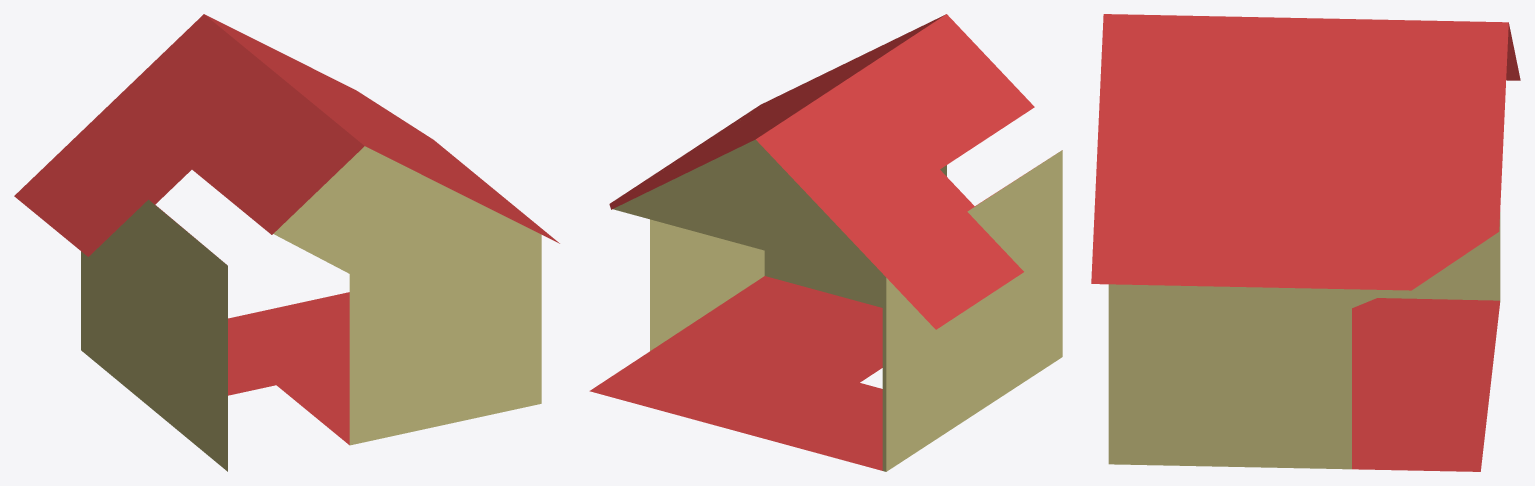
The picture shows the model from 3 angles, left to right: view 1: azimuth 30°, elevation 25°; view 2: azimuth 150°, elevation 25°; view 3: azimuth 270°, elevation 25°; orthographic projection. The views are drawn at different scales.
Bounding box in the file's own units: 22.91 × 19.47 × 17.49.
